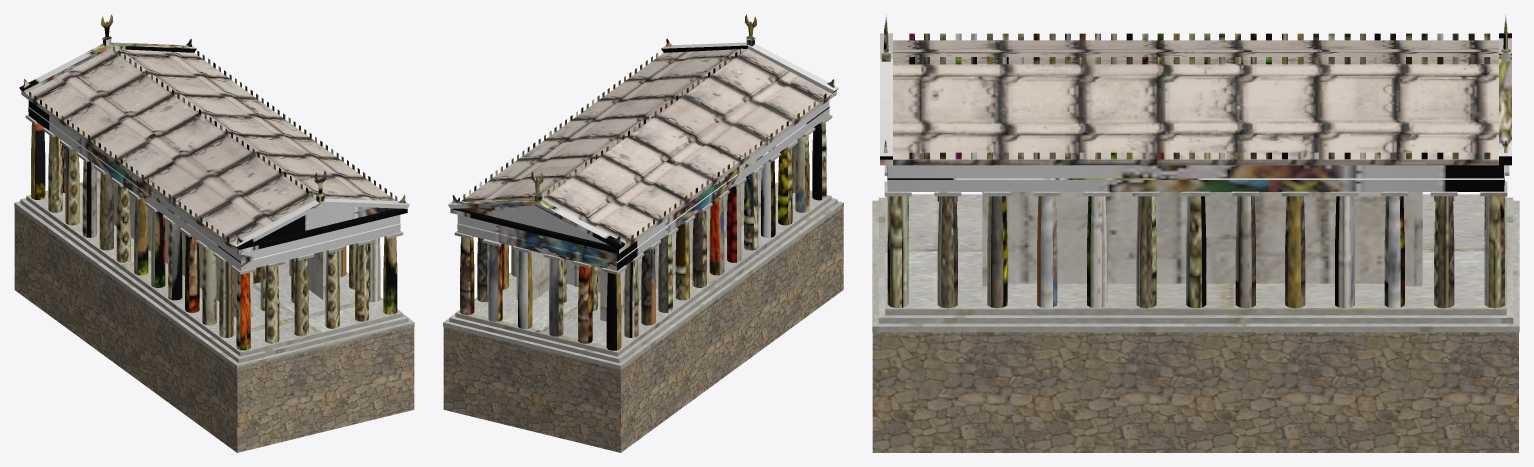
The model's file is ruins.glb.
3 views of the same model, side by side, from view 1: azimuth 30°, elevation 25°; view 2: azimuth 150°, elevation 25°; view 3: azimuth 270°, elevation 25° (orthographic). The views are drawn at different scales.
Parts seen in each view (by area): view 1: ruins; view 2: ruins; view 3: ruins.
Boxes of the visible parts, x1=… form: ruins: x1=14, y1=14, x2=414, y2=452; ruins: x1=443, y1=14, x2=843, y2=452; ruins: x1=872, y1=14, x2=1519, y2=452.
Size of the model in its own units: 1.15 by 1.59 by 2.5.
7 materials, 7 textured.
